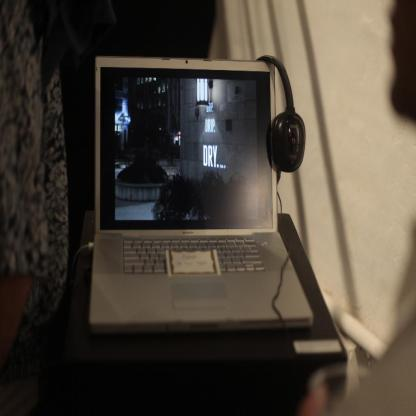board: (79, 49, 340, 360)
